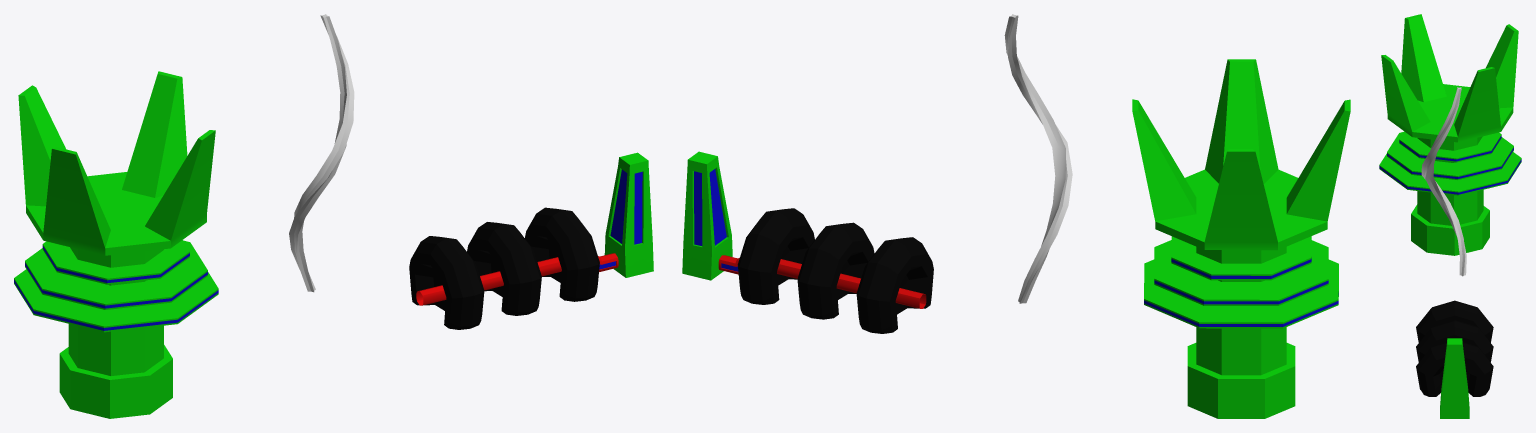
The model's file is GB634 painter.fbx.
3 renders of one model, left to right at view 1: azimuth 30°, elevation 25°; view 2: azimuth 150°, elevation 25°; view 3: azimuth 270°, elevation 25°, orthographic. The views are drawn at different scales.
Visible parts, largest first — view 1: GeneratorA, GeneratorC, GeneratorB; view 2: GeneratorA, GeneratorC, GeneratorB; view 3: GeneratorA, GeneratorC, GeneratorB.
Boxes of the visible parts, <box> form: GeneratorA: <box>14,71,218,418</box>; GeneratorC: <box>409,152,653,329</box>; GeneratorB: <box>289,14,354,292</box>; GeneratorA: <box>1132,59,1350,418</box>; GeneratorC: <box>682,151,933,333</box>; GeneratorB: <box>1004,14,1072,303</box>; GeneratorA: <box>1379,14,1521,255</box>; GeneratorC: <box>1416,300,1493,418</box>; GeneratorB: <box>1421,87,1466,276</box>.
Bounding box in the file's own units: 6.05 × 3.01 × 1.73.
